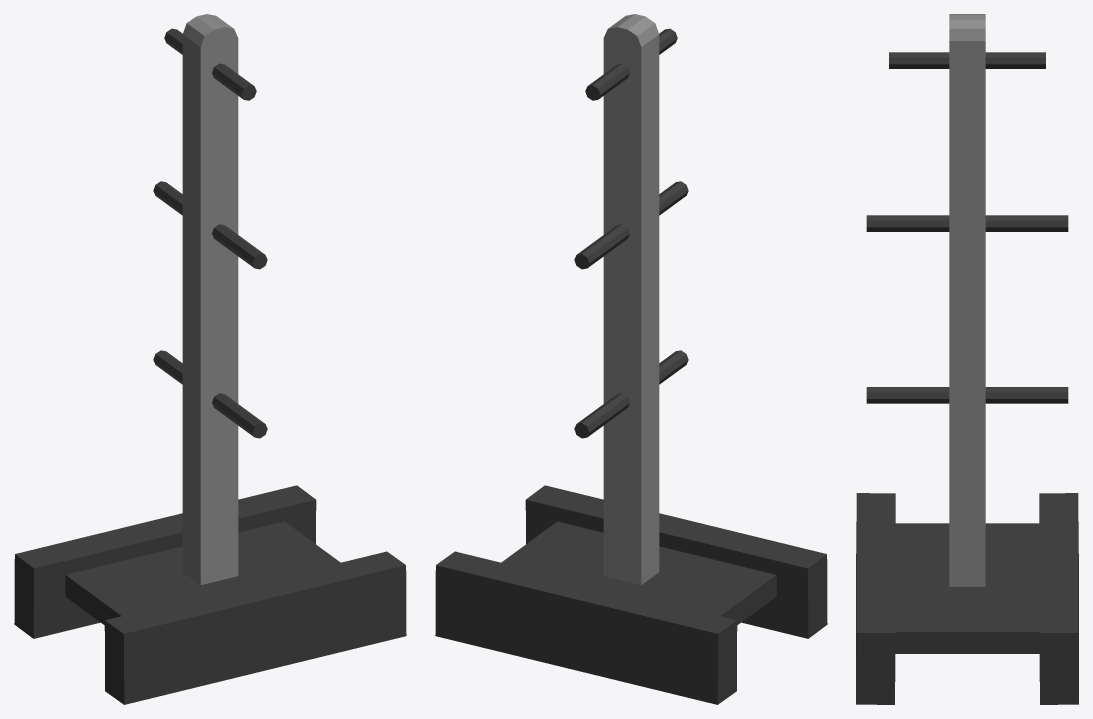
Rendered from Weight_Stand_2.fbx.
The picture shows the model from 3 angles, left to right: view 1: azimuth 30°, elevation 25°; view 2: azimuth 150°, elevation 25°; view 3: azimuth 270°, elevation 25°; orthographic projection.
Visible parts, largest first — view 1: Weight_Stand_2; view 2: Weight_Stand_2; view 3: Weight_Stand_2.
Part boxes in pixels (x1,y1,x2,y2): Weight_Stand_2: (14,14,406,704); Weight_Stand_2: (435,14,827,704); Weight_Stand_2: (856,14,1078,704).
Size of the model in its own units: 58.68 by 121 by 39.55.
